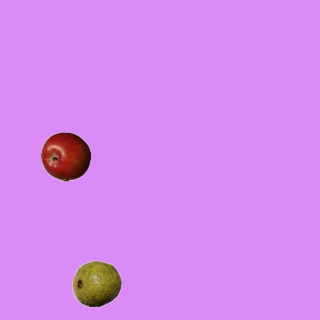Apple Braeburn: (40, 131, 90, 181)
Guava: (71, 258, 121, 308)
